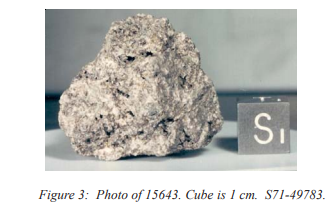Basalt: (52, 24, 229, 165)
